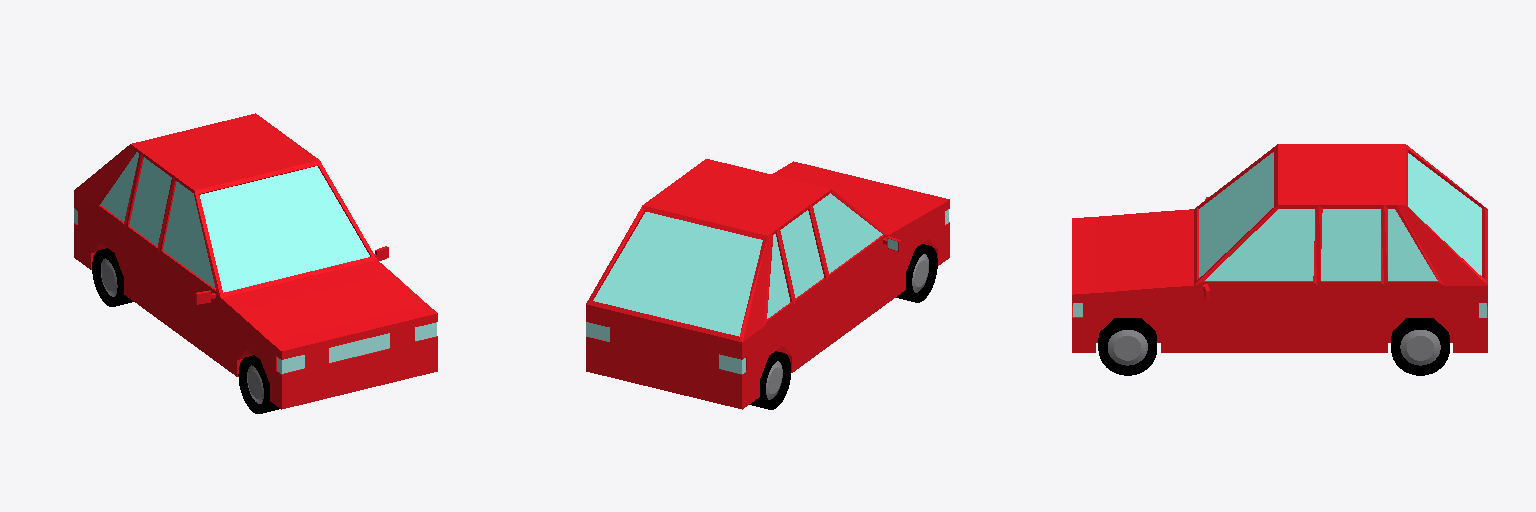
The picture shows the model from 3 angles: view 1: azimuth 30°, elevation 25°; view 2: azimuth 150°, elevation 25°; view 3: azimuth 270°, elevation 25°; orthographic projection.
Parts seen in each view (by area): view 1: Car_Car1_Cube.001; view 2: Car_Car1_Cube.001; view 3: Car_Car1_Cube.001.
Part boxes in pixels (x1,y1,x2,y2): Car_Car1_Cube.001: (74,113,437,413); Car_Car1_Cube.001: (586,159,949,409); Car_Car1_Cube.001: (1072,144,1487,375).
Size of the model in its own units: 2.46 by 1.99 by 4.6.
1 materials, 1 textured.